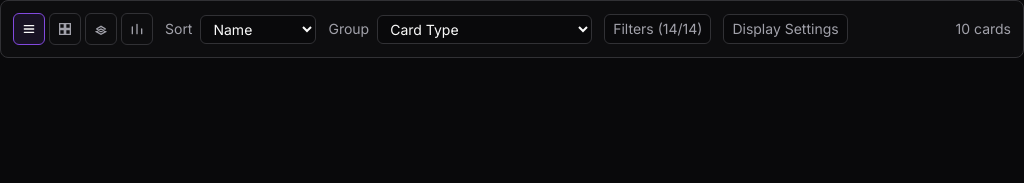
Test: ViewToolbar › should_render_card_size_slider_in_display_settings
Click the heading "Display Settings". click: x=786, y=29
box: [723,14,848,44]
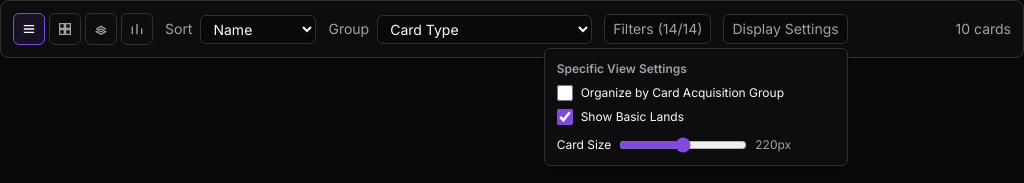
Expected: the slider labelled "Card Size" is shown, [619,137,747,153]
